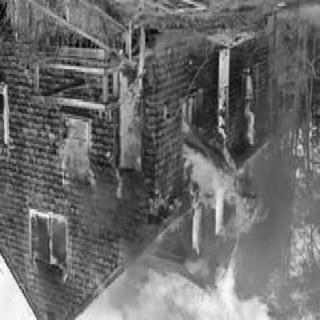Fire: (106, 68, 275, 320), (27, 211, 73, 273)
